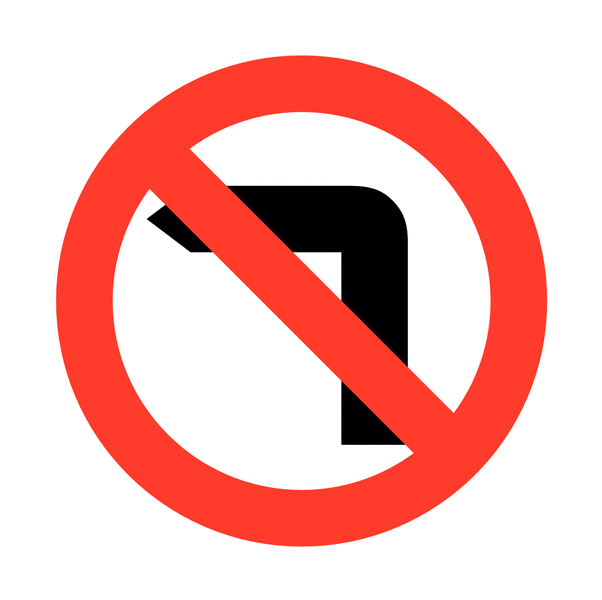No_left_turn: (54, 57, 547, 544)
